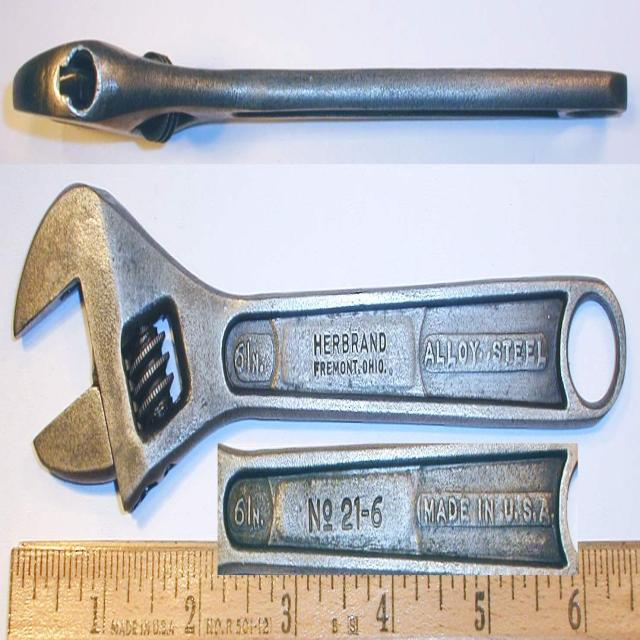wrench: (12, 183, 627, 515)
